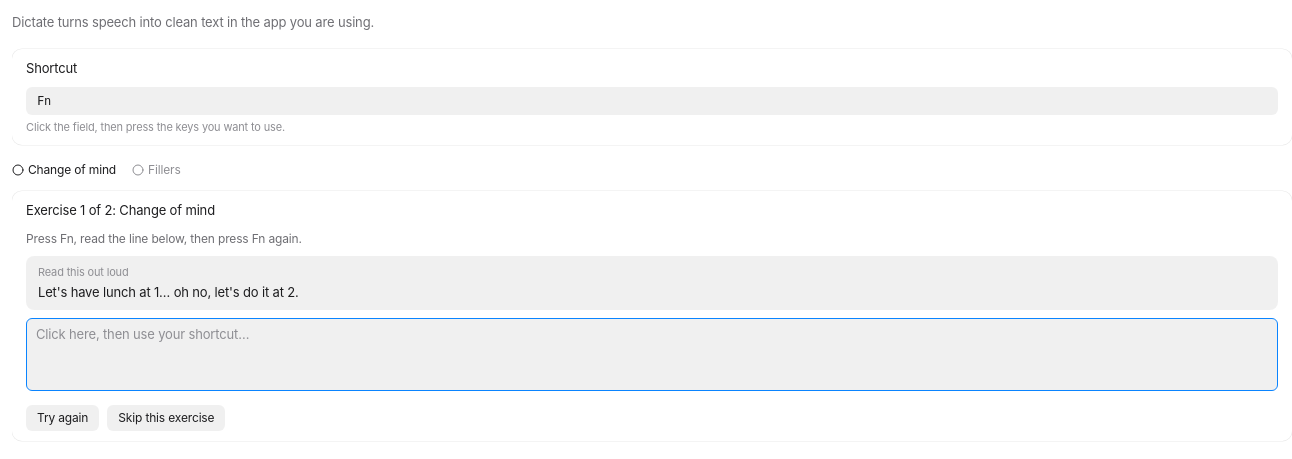
Test: ShortcutStep recording › records a new shortcut by pressing keys, saves it and makes it live
The width and height of the screenshot is (1292, 459).
Click the button "Fn" at (44, 101), box 26,87 -> 1278,115
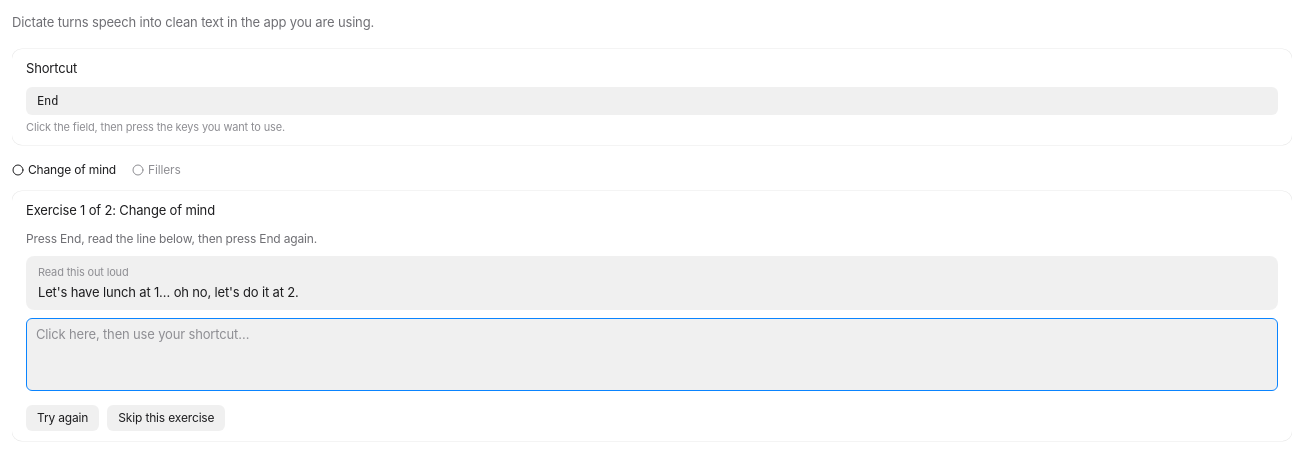
Check: the button named "Fn" reads "End", box 26,87 -> 1278,115
